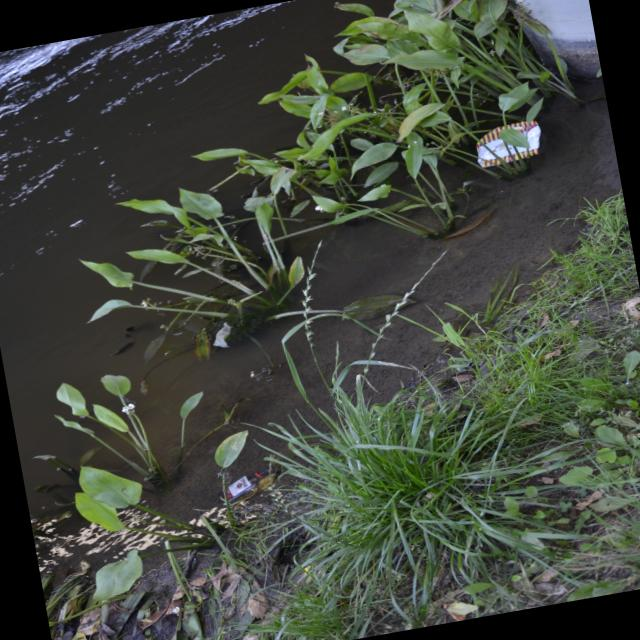Lolium: (224, 198, 636, 630), (342, 254, 466, 376), (289, 242, 346, 358)
